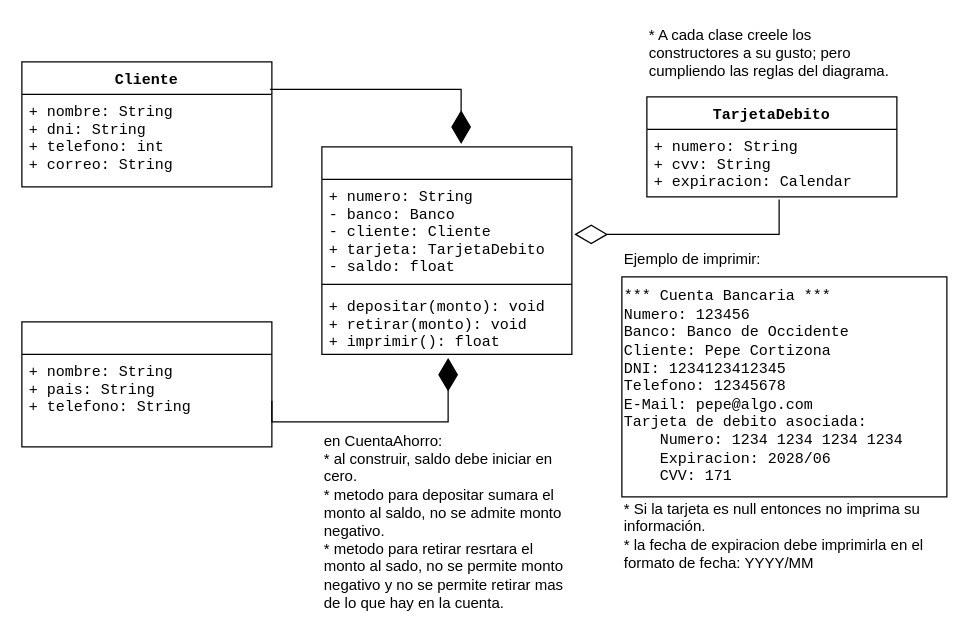
The diagram is 969 pixels wide and 633 high, and some of its shapes have lost their labels. Each missing label, with the box of its shape:
Banco: (21, 321, 272, 447)
CuentaAhorro: (321, 146, 572, 354)
